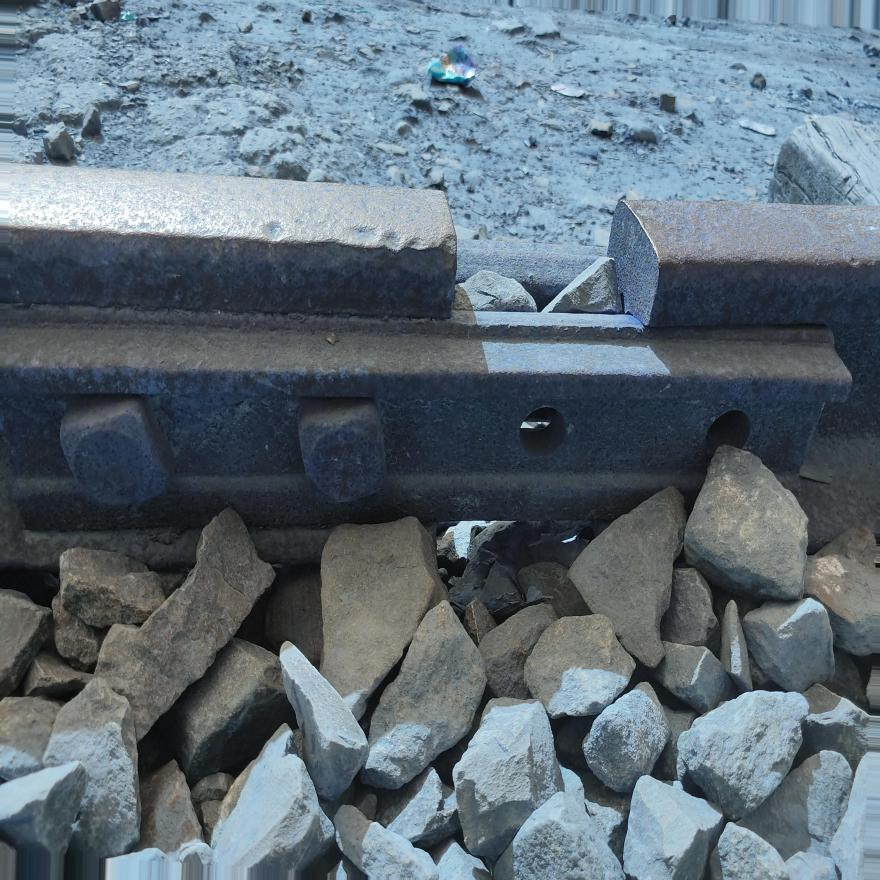railway-gap: (379, 136, 696, 378)
